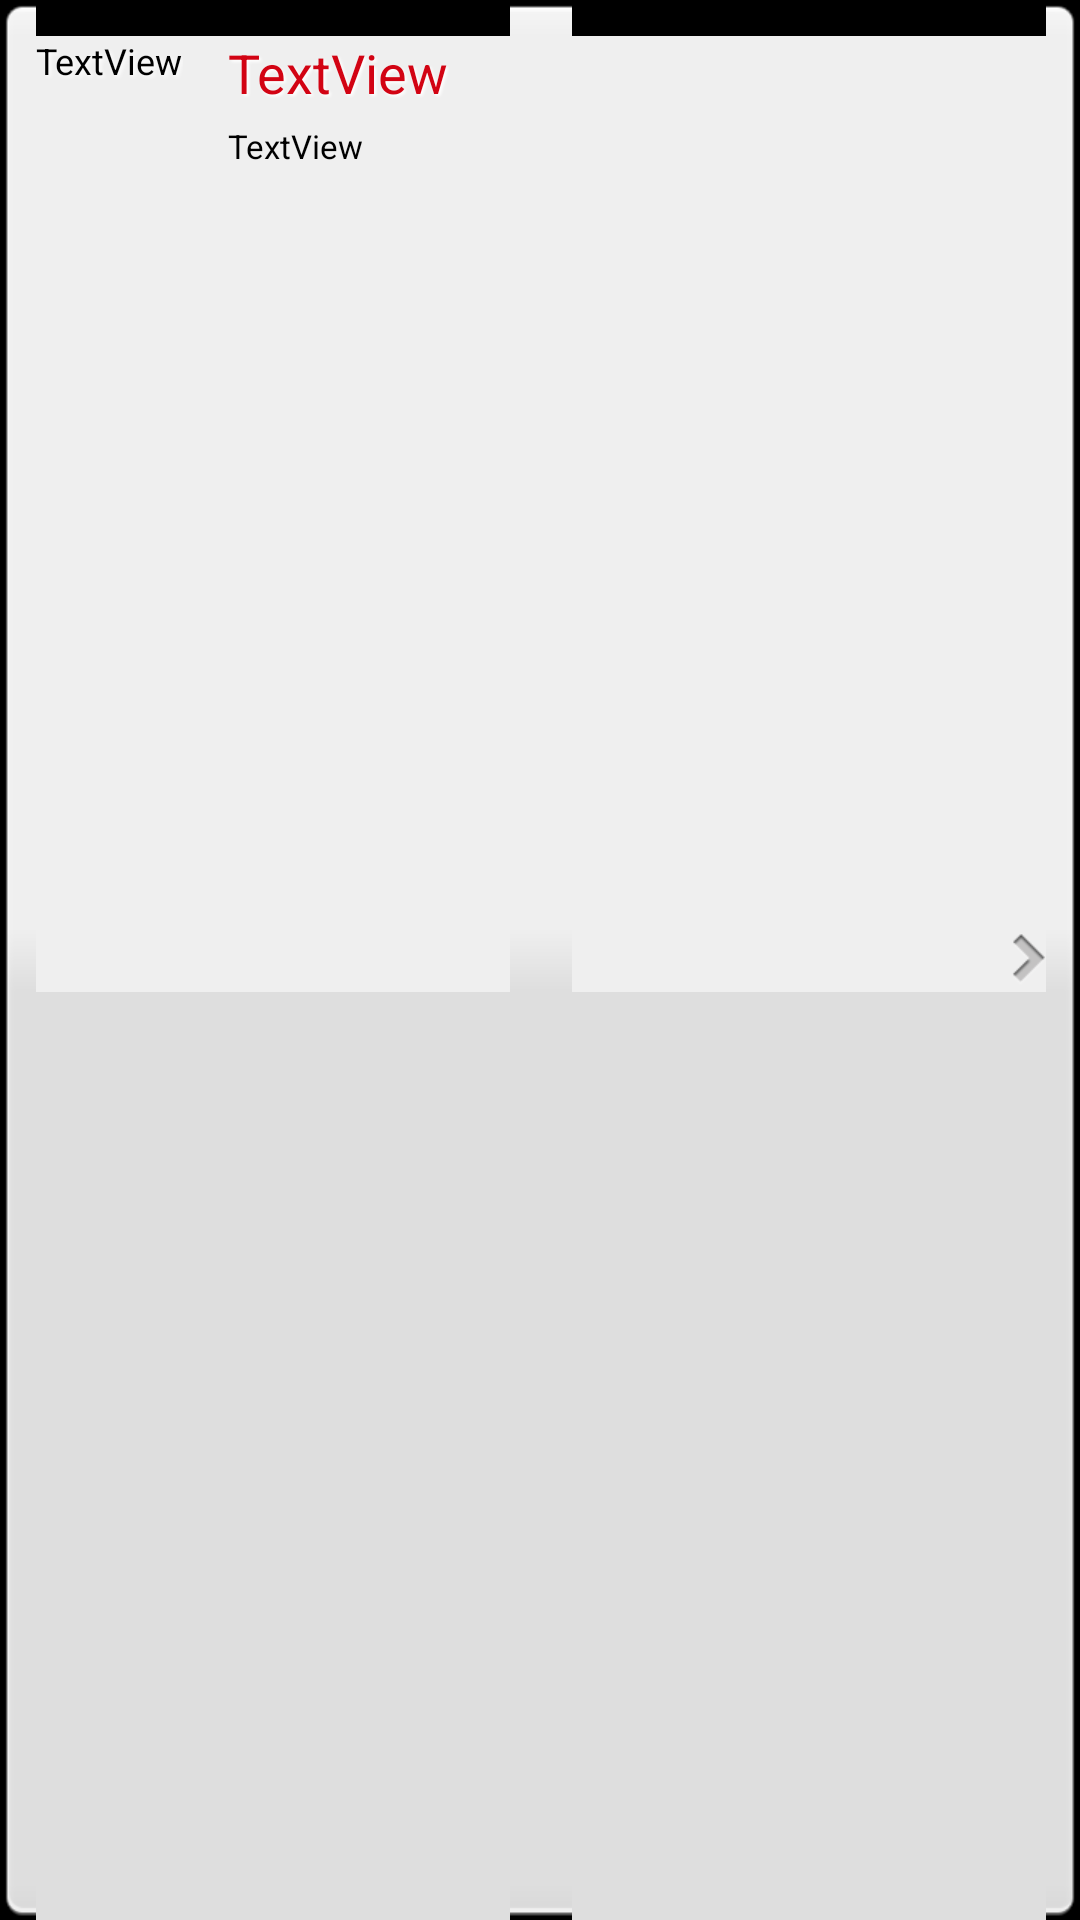

Icons on this 1080px x 1920px Android screen, each with the point to tap as [x,y]:
arrow: [1029,957]
